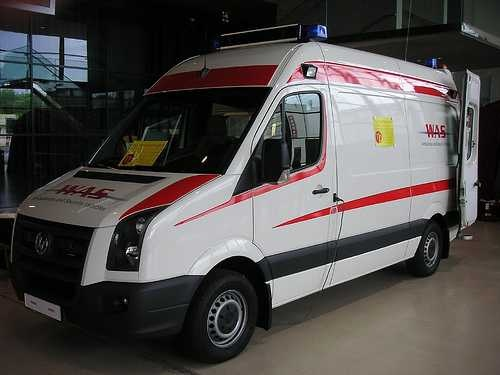Ambulance: (10, 30, 499, 350)
